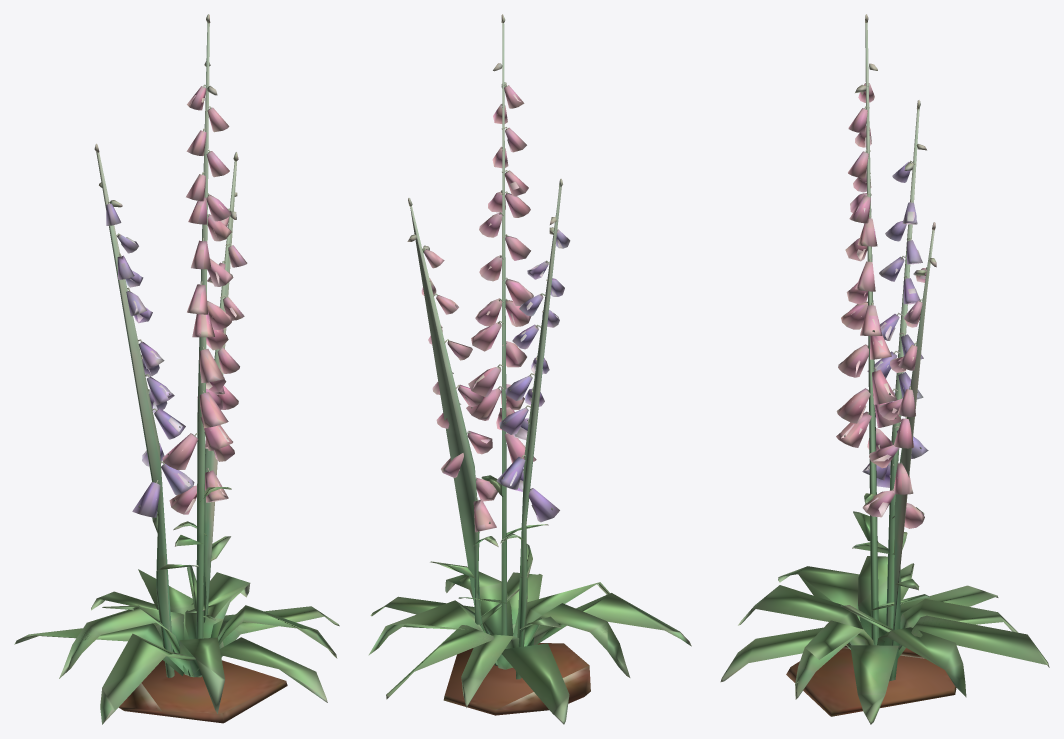
File: foxglove.glb
3 views of the same model, side by side, from view 1: azimuth 30°, elevation 25°; view 2: azimuth 150°, elevation 25°; view 3: azimuth 270°, elevation 25° (orthographic). The views are drawn at different scales.
Parts seen in each view (by area): view 1: foxglove_body; view 2: foxglove_body; view 3: foxglove_body.
Boxes of the visible parts, box(x1,y1,x2,y2) form: foxglove_body: box(14, 14, 339, 724); foxglove_body: box(368, 14, 691, 724); foxglove_body: box(720, 14, 1049, 724).
Bounding box in the file's own units: 0.5339 × 1.21 × 0.5379.
Materials: 1 (1 with a texture image).
